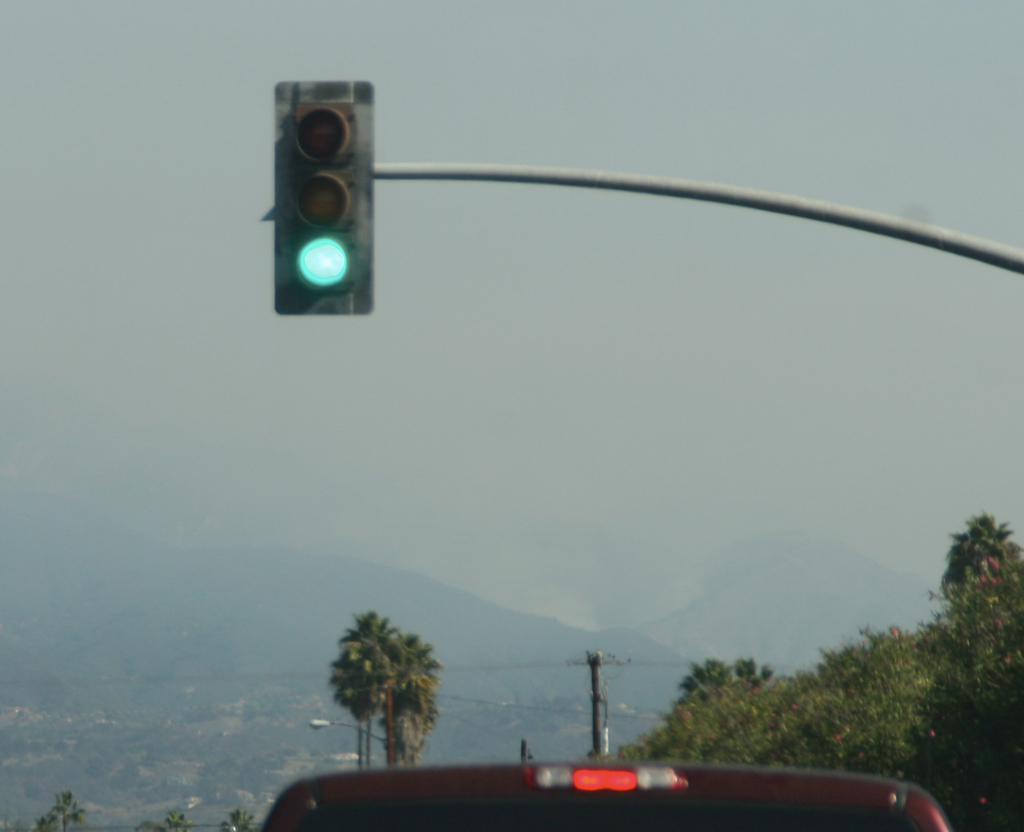green_light: (277, 84, 370, 311)
